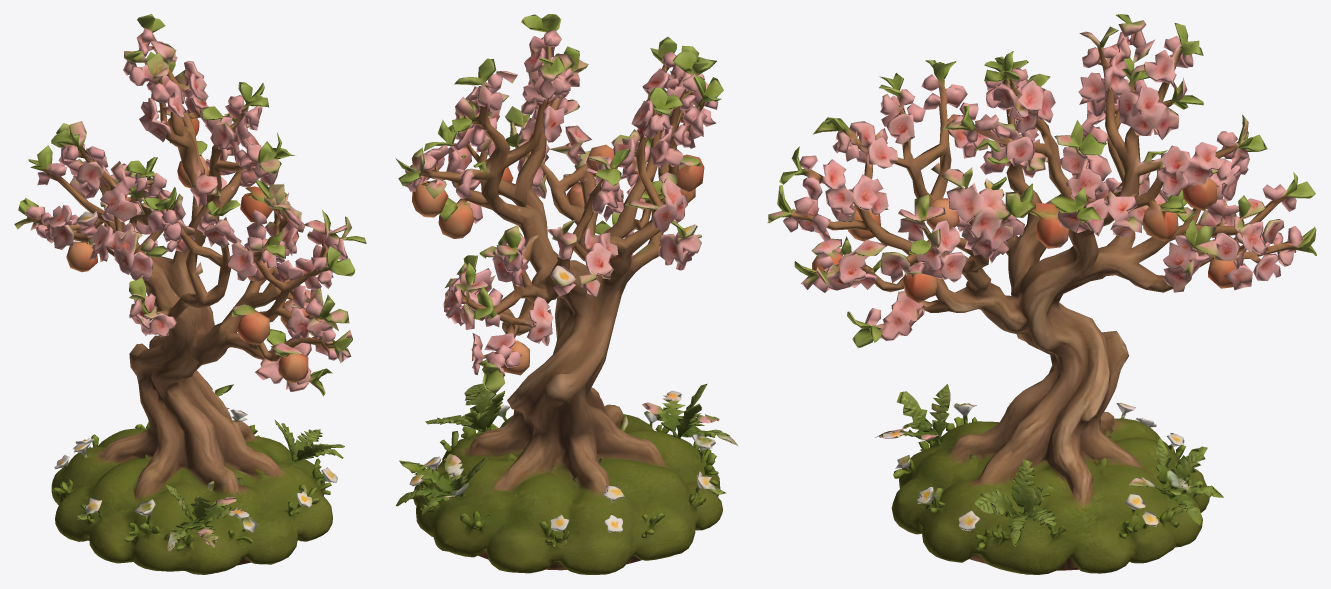
File: x_tree.glb
3 renders of one model, left to right at view 1: azimuth 30°, elevation 25°; view 2: azimuth 150°, elevation 25°; view 3: azimuth 270°, elevation 25°, orthographic. The views are drawn at different scales.
Visible parts, largest first — view 1: tripo_node_11fce022-6b97-431a-bb59-6b74b44a5492; view 2: tripo_node_11fce022-6b97-431a-bb59-6b74b44a5492; view 3: tripo_node_11fce022-6b97-431a-bb59-6b74b44a5492.
Boxes of the visible parts, x1,y1,x2,y2 form: tripo_node_11fce022-6b97-431a-bb59-6b74b44a5492: (14,14,366,574); tripo_node_11fce022-6b97-431a-bb59-6b74b44a5492: (395,14,737,574); tripo_node_11fce022-6b97-431a-bb59-6b74b44a5492: (767,14,1316,574).
Bounding box in the file's own units: 0.6043 × 1 × 0.9929.
1 material, 1 textured.
